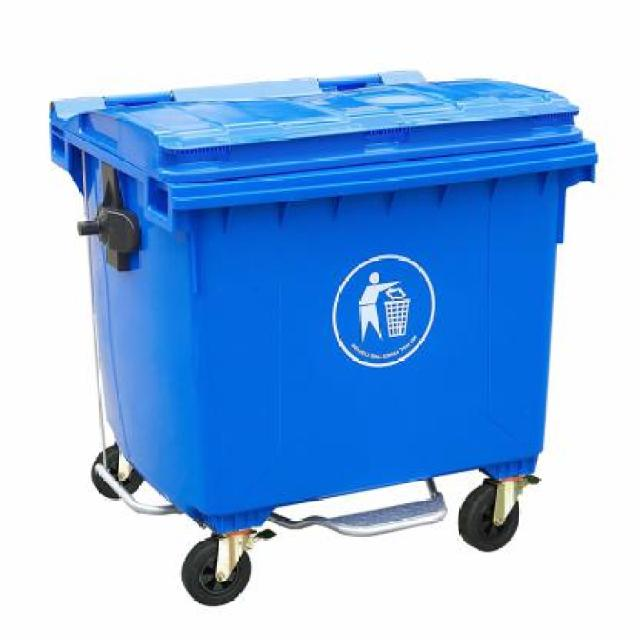garbage container: (26, 59, 611, 624)
